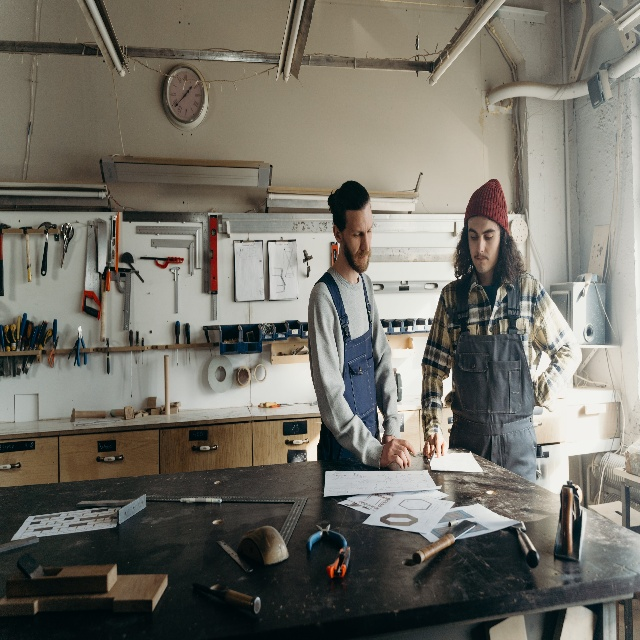Sin_guantes: (383, 438, 417, 469), (422, 432, 449, 457)
